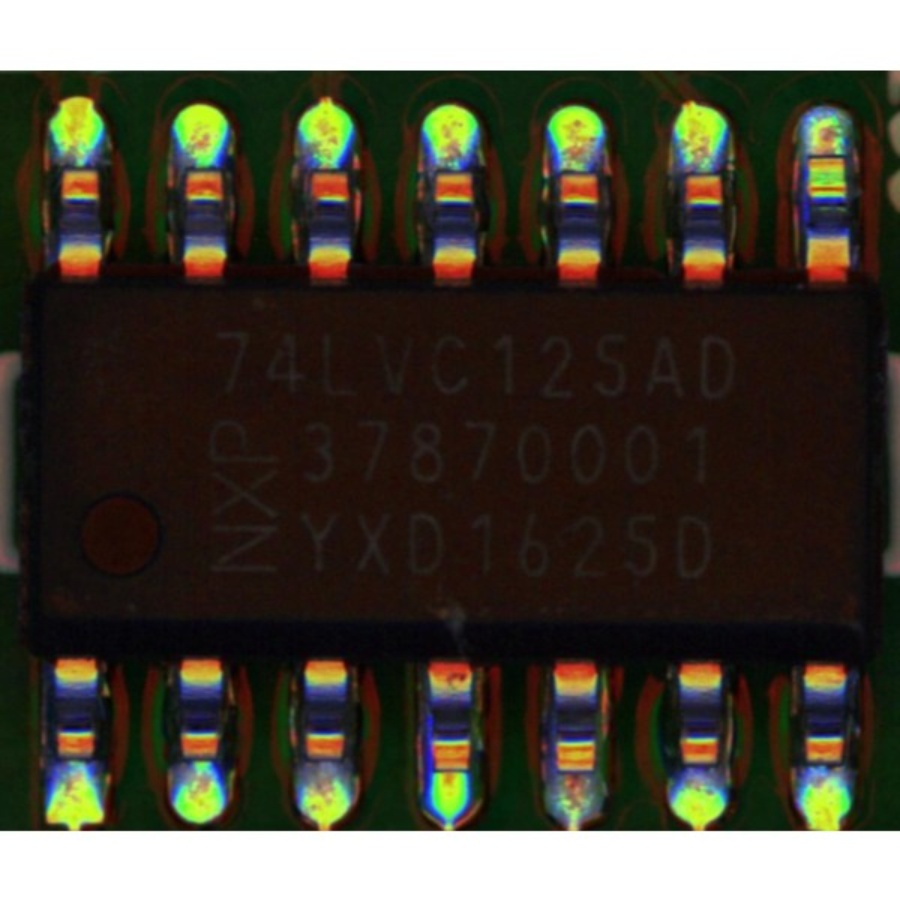Bad_podu: (811, 128, 843, 178), (433, 761, 468, 786)
